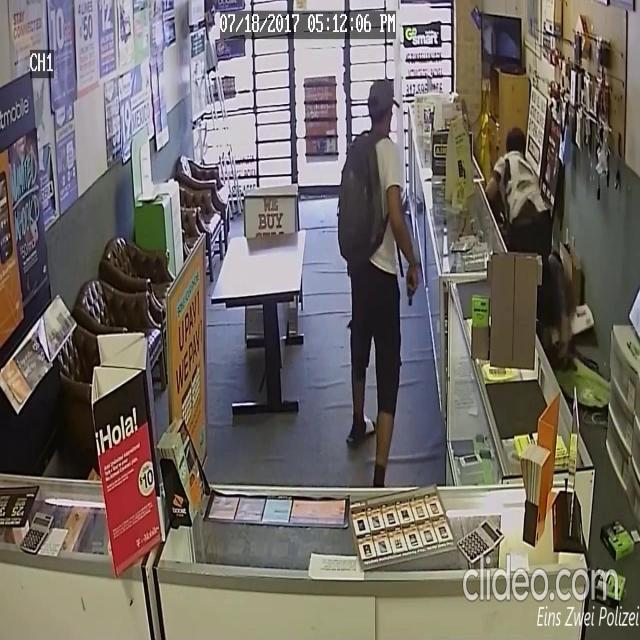pistol: (406, 271, 418, 310)
